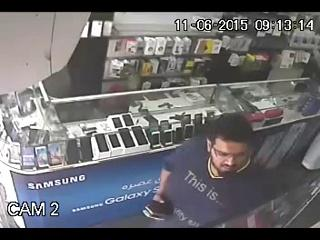Normal: (142, 111, 264, 228)
